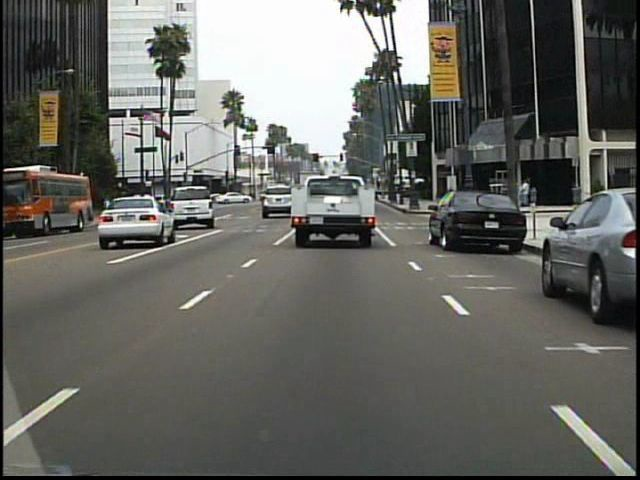person: (520, 177, 532, 194)
